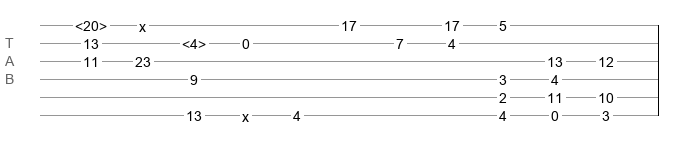0: (242, 36, 250, 46), (551, 108, 559, 118)
10: (598, 90, 614, 100)
11: (83, 54, 99, 64), (547, 90, 563, 100)
12: (598, 54, 614, 64)
13: (83, 36, 99, 46), (186, 108, 202, 118), (547, 54, 563, 64)
17: (341, 18, 357, 28), (444, 18, 460, 28)
2: (499, 90, 507, 100)
23: (135, 54, 151, 64)
3: (499, 72, 507, 82), (602, 108, 610, 118)
4: (293, 108, 301, 118), (448, 36, 456, 46), (499, 108, 507, 118), (551, 72, 559, 82)
5: (499, 18, 507, 28)
7: (396, 36, 404, 46)
9: (190, 72, 198, 82)
harmonic: (75, 18, 107, 28), (182, 36, 206, 46)
x: (139, 19, 146, 27), (242, 109, 249, 117)
